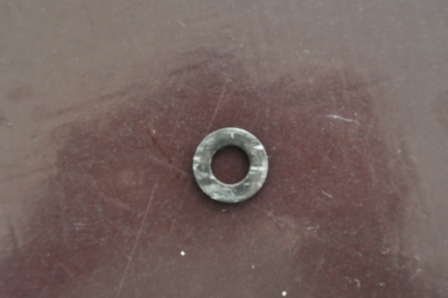METALIC WASHER: (191, 125, 271, 205)
